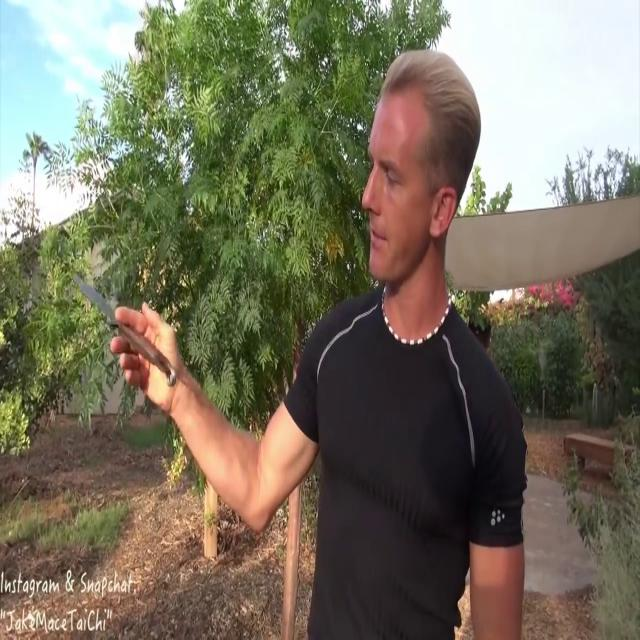knife: (67, 264, 175, 388)
